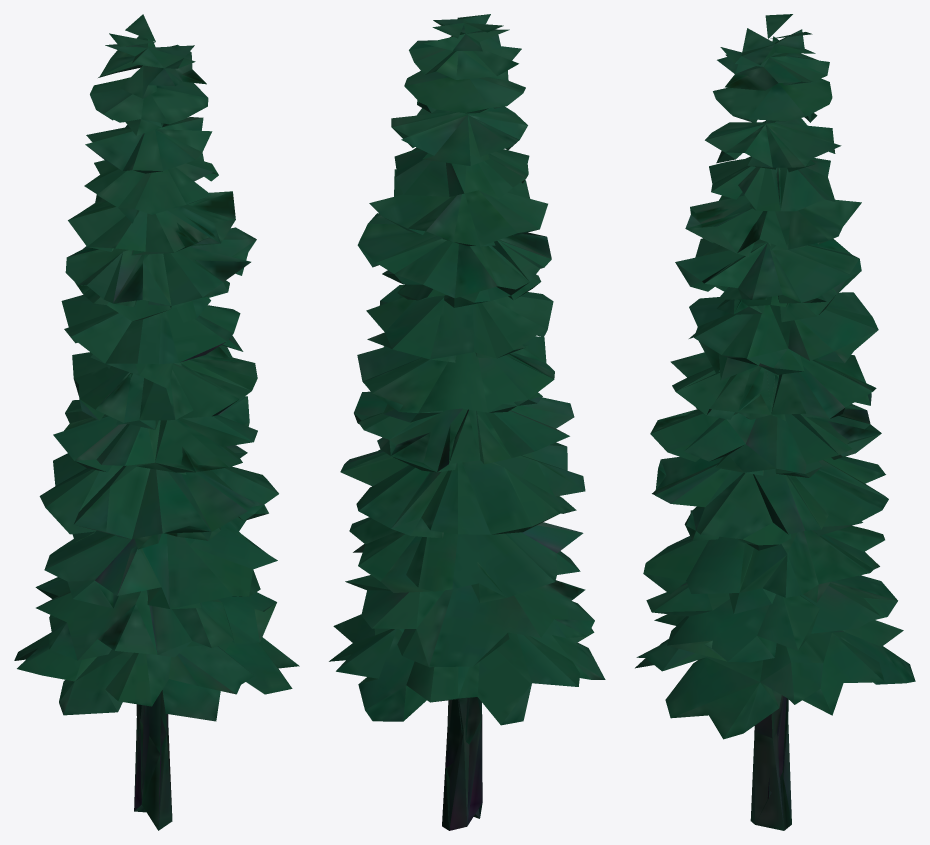
The model's file is pine_3.glb.
3 renders of one model, left to right at view 1: azimuth 30°, elevation 25°; view 2: azimuth 150°, elevation 25°; view 3: azimuth 270°, elevation 25°, orthographic. The views are drawn at different scales.
Size of the model in its own units: 0.527 by 1.61 by 0.5171.
1 material, 1 textured.
